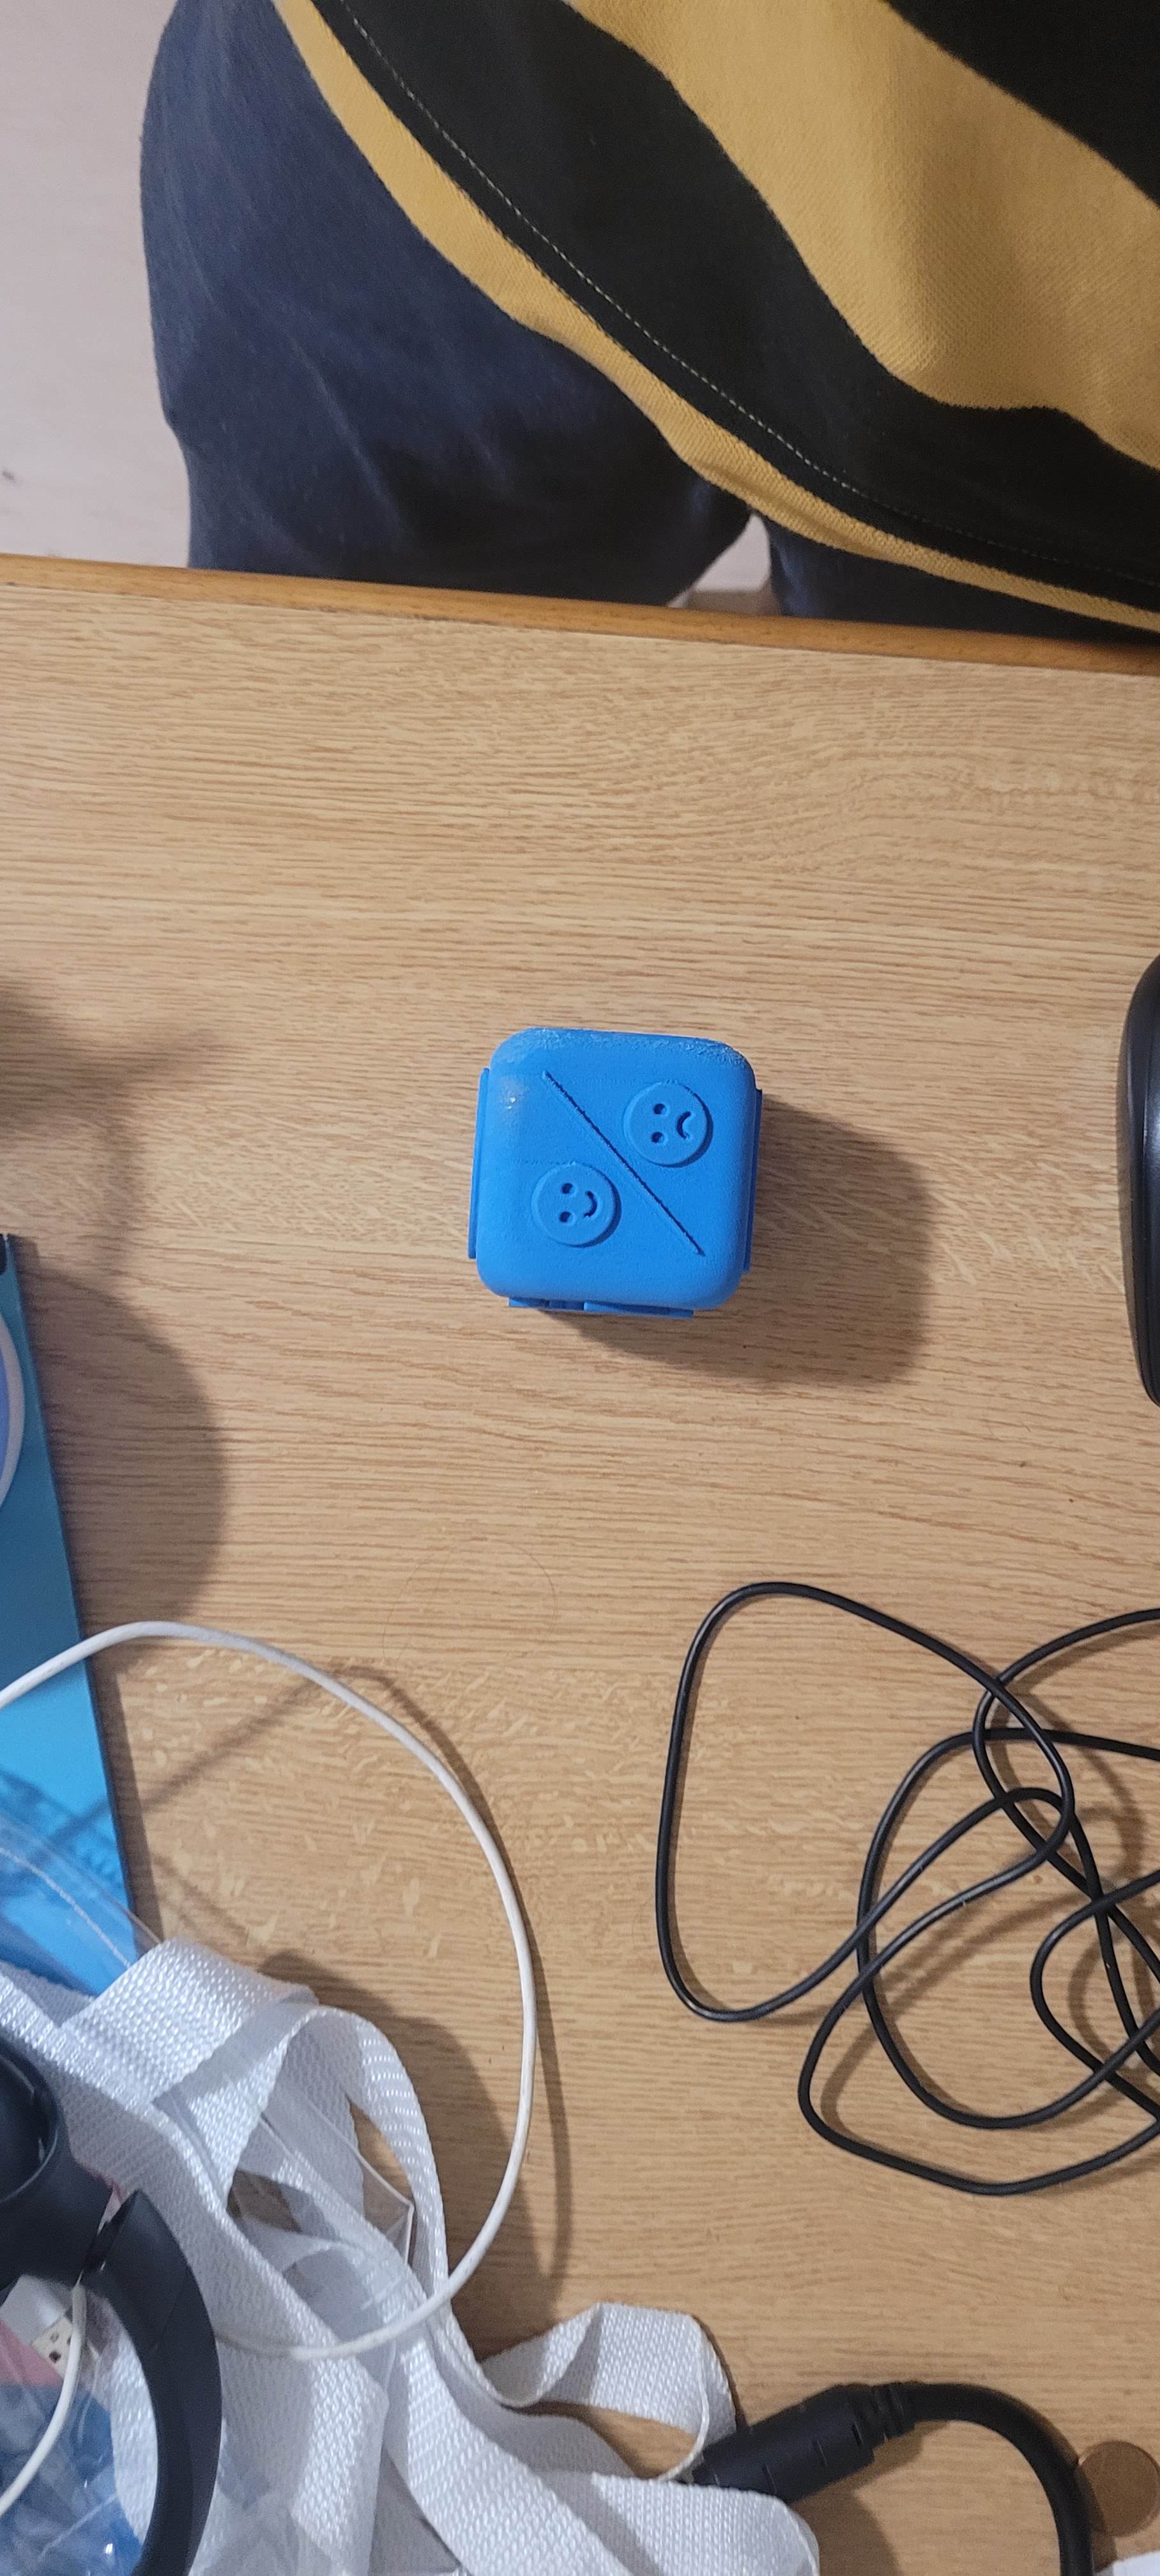Like/Dislike: (480, 1027, 784, 1314)
